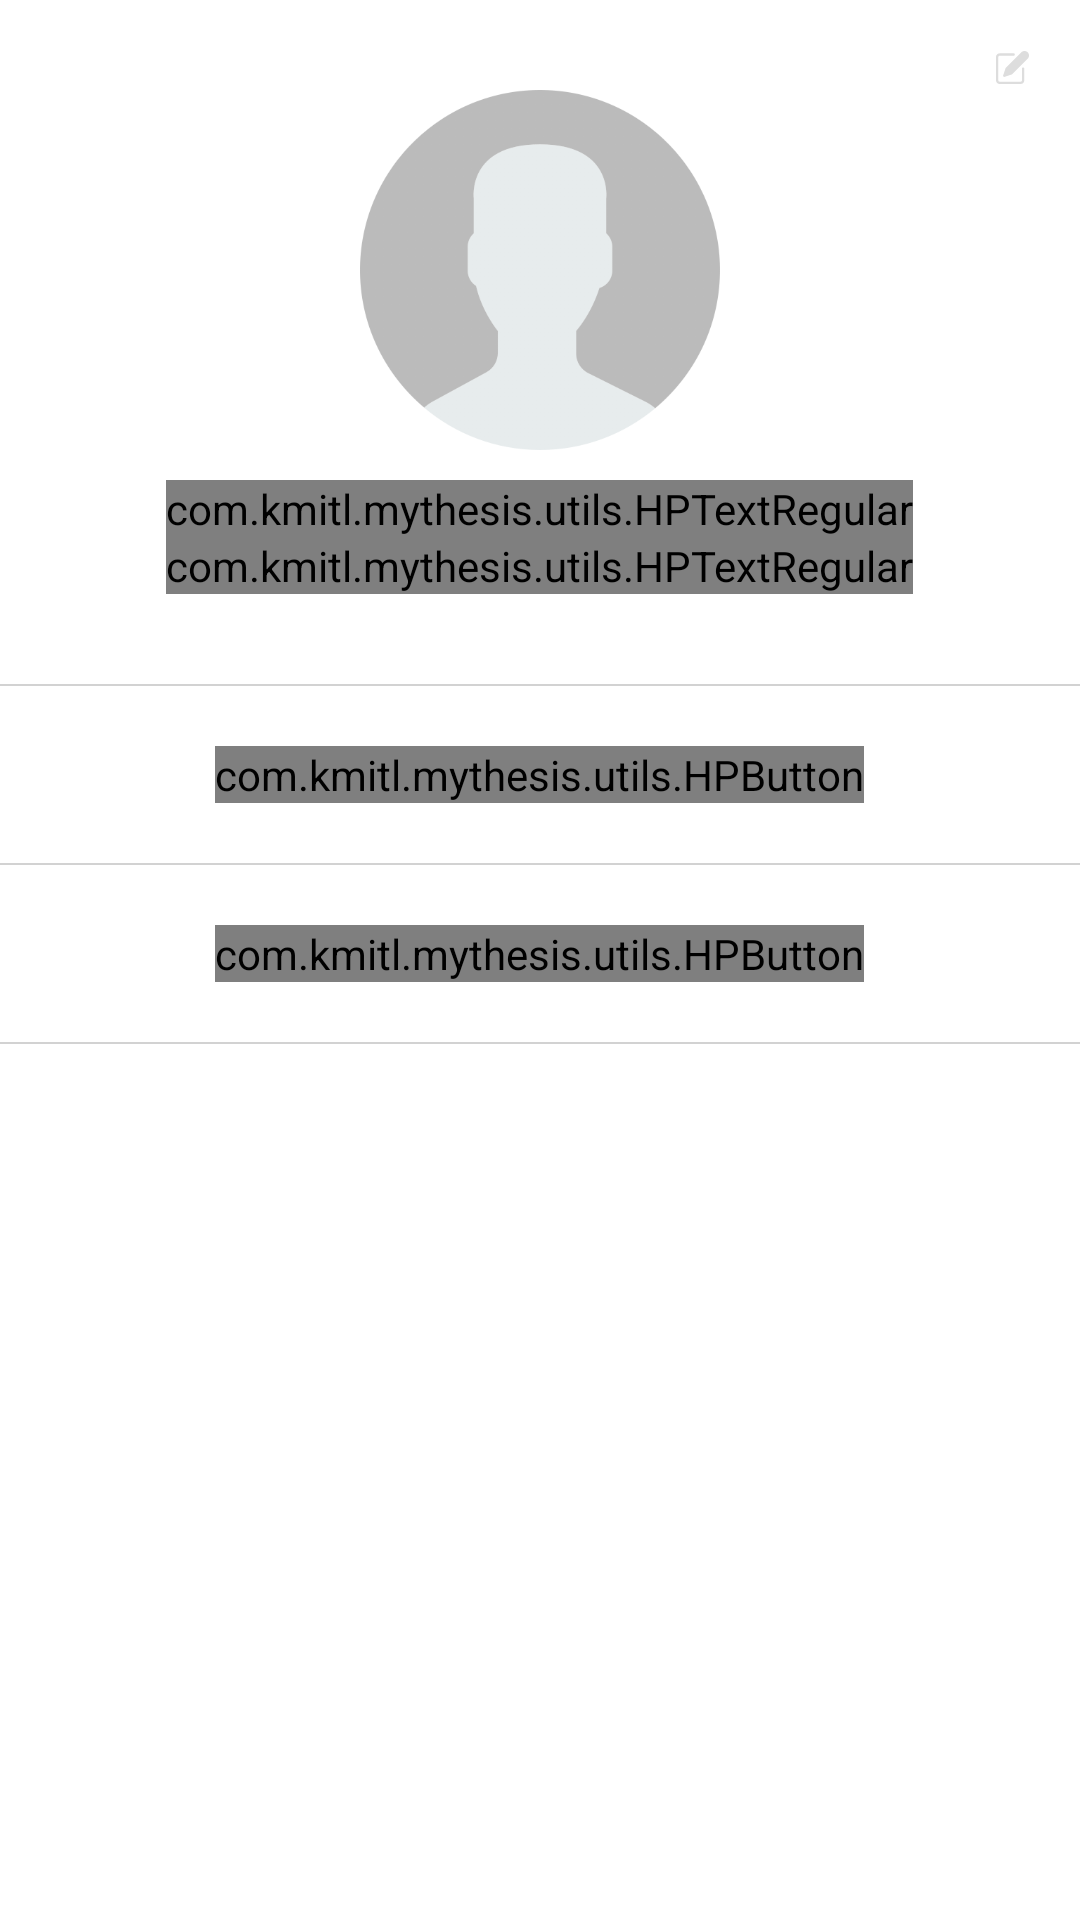

Where icons sit on this 1080*1920 app screen, as (x1, y1, x2, y2):
profile edit: (996, 51, 1029, 84)
